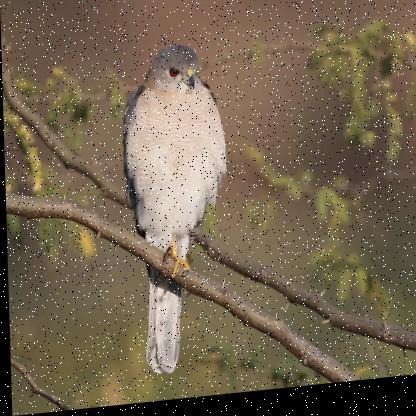Burung: (121, 44, 232, 380)
